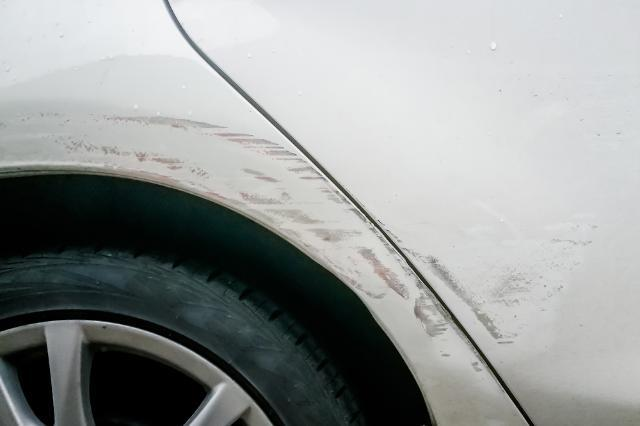scratch: (50, 108, 488, 375), (384, 221, 600, 347)
